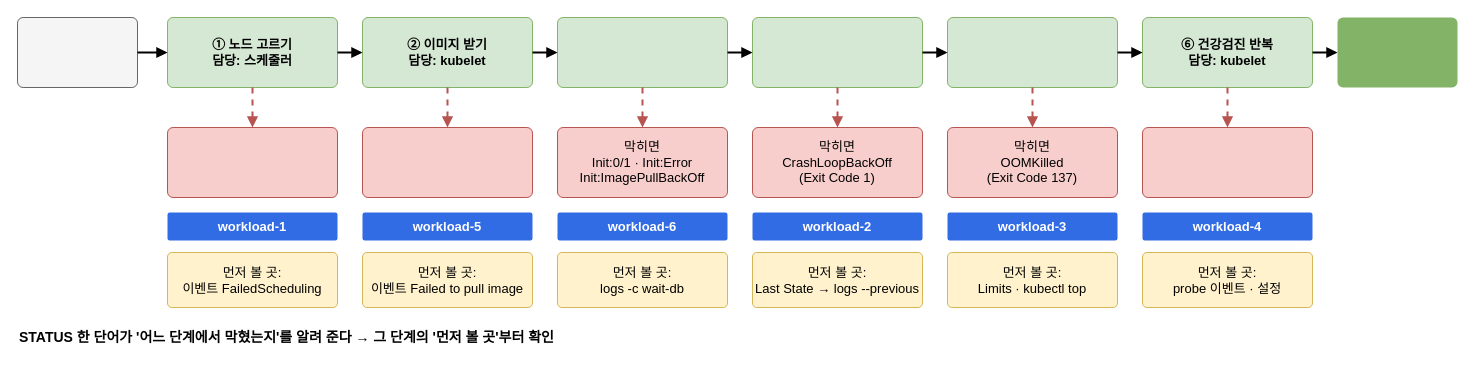
This 1475x370 diagram has some shape labels left out. Here are the shapes that lost their labels. From the top down, the centre of each, then its label:
the point at 77,52: 주문서 (Deployment)
the point at 642,52: ③ init 실행·종료 담당: kubelet
the point at 837,52: ④ 앱 시작 담당: kubelet
the point at 1032,52: ⑤ 실행 중 메모리 담당: 리눅스 커널
the point at 1397,52: 정상 서비스 ✔
the point at 252,162: 막히면 Pending (NODE <none>)
the point at 447,162: 막히면 ErrImagePull → ImagePullBackOff
the point at 1227,162: 막히면 Running인데 RESTARTS↑ / READY 0/1
